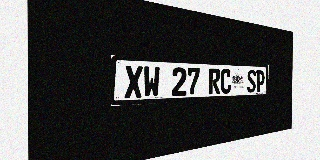2: (172, 67, 186, 96)
7: (187, 68, 200, 95)
C: (220, 69, 231, 94)
P: (256, 70, 264, 92)
R: (209, 68, 220, 94)
S: (247, 70, 256, 93)
W: (143, 66, 160, 97)
X: (124, 65, 143, 98)
